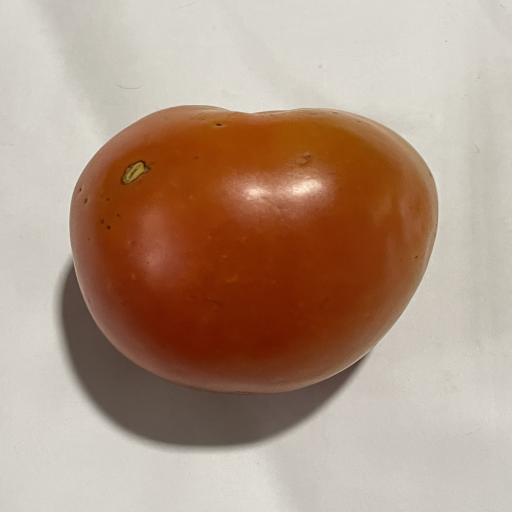ripe: (70, 106, 437, 393)
